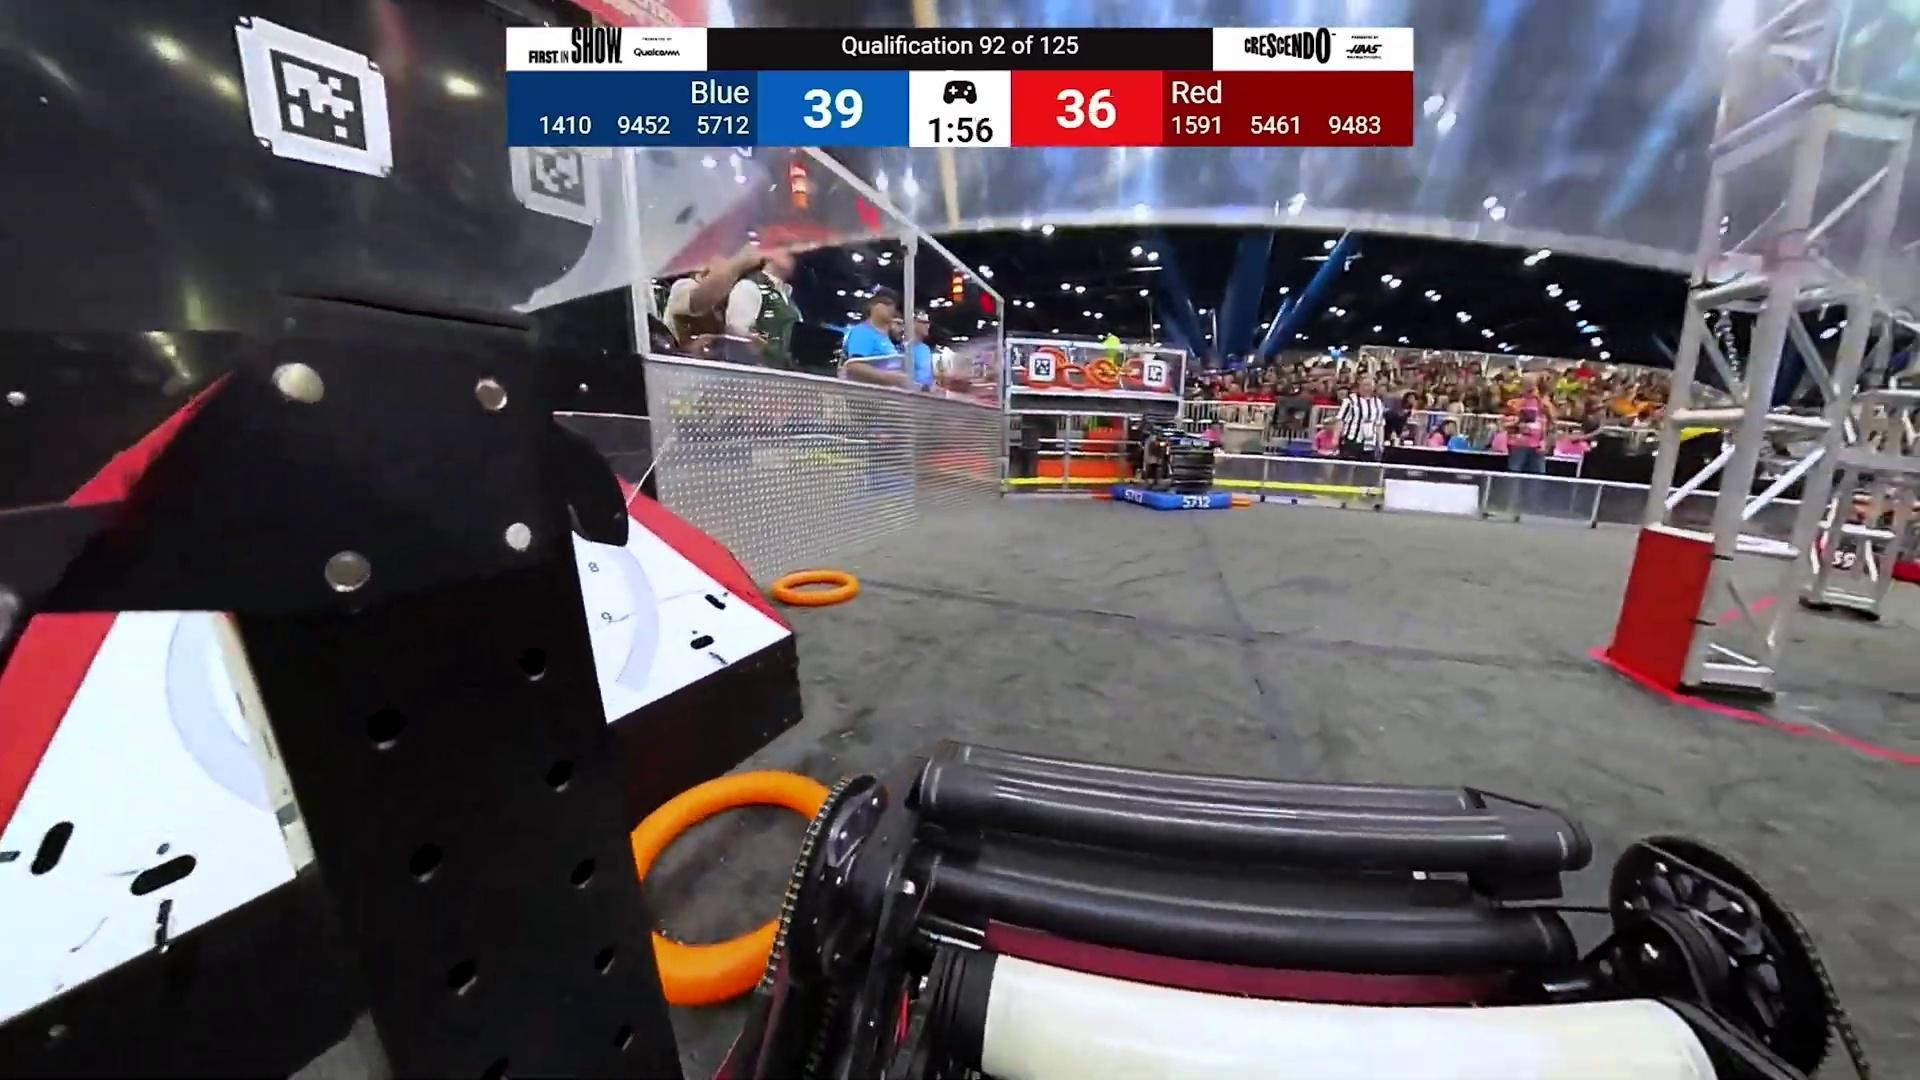robot: (1110, 409, 1232, 512)
